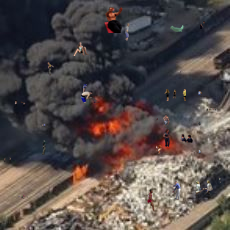Human: (163, 129, 193, 147), (73, 84, 100, 103), (104, 7, 123, 33), (124, 23, 141, 41), (196, 180, 213, 198), (164, 89, 186, 101), (73, 42, 89, 56), (147, 189, 155, 212), (172, 181, 181, 200), (170, 25, 186, 32), (13, 100, 26, 108), (47, 62, 54, 76), (163, 114, 170, 128), (154, 144, 162, 154), (42, 140, 47, 155), (189, 120, 201, 126), (190, 90, 202, 96), (206, 108, 217, 112), (4, 157, 11, 163), (200, 21, 205, 29), (18, 195, 28, 199), (42, 123, 46, 128), (198, 150, 201, 154), (219, 177, 221, 183), (95, 187, 101, 189), (173, 42, 175, 47), (180, 70, 183, 73), (155, 118, 158, 121)
